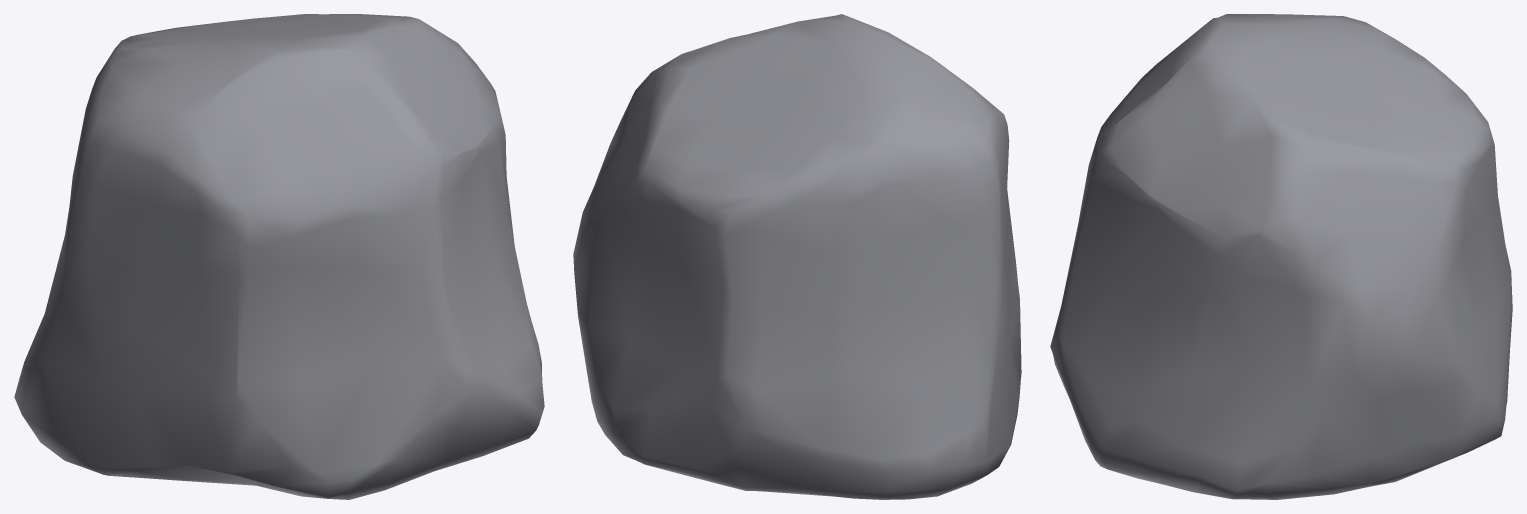
Rendered from environment-rock-1.glb.
3 renders of one model, left to right at view 1: azimuth 30°, elevation 25°; view 2: azimuth 150°, elevation 25°; view 3: azimuth 270°, elevation 25°, orthographic. The views are drawn at different scales.
Parts seen in each view (by area): view 1: Environment_Rock_1; view 2: Environment_Rock_1; view 3: Environment_Rock_1.
Part boxes in pixels (<box>): Environment_Rock_1: <box>14,14,544,499</box>; Environment_Rock_1: <box>573,14,1021,499</box>; Environment_Rock_1: <box>1050,14,1512,499</box>.
Bounding box in the file's own units: 0.6881 × 0.5872 × 0.6574.
Materials: 1 (1 with a texture image).
